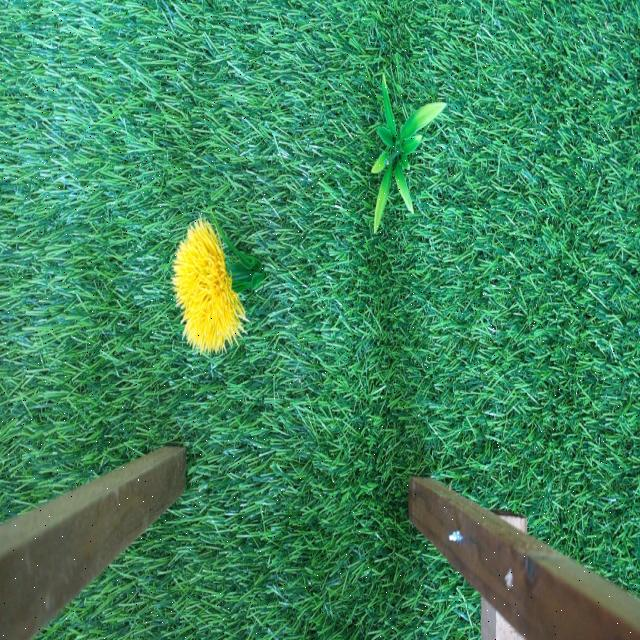base: (368, 76, 442, 228), (214, 215, 266, 292)
flower: (174, 218, 246, 350)
